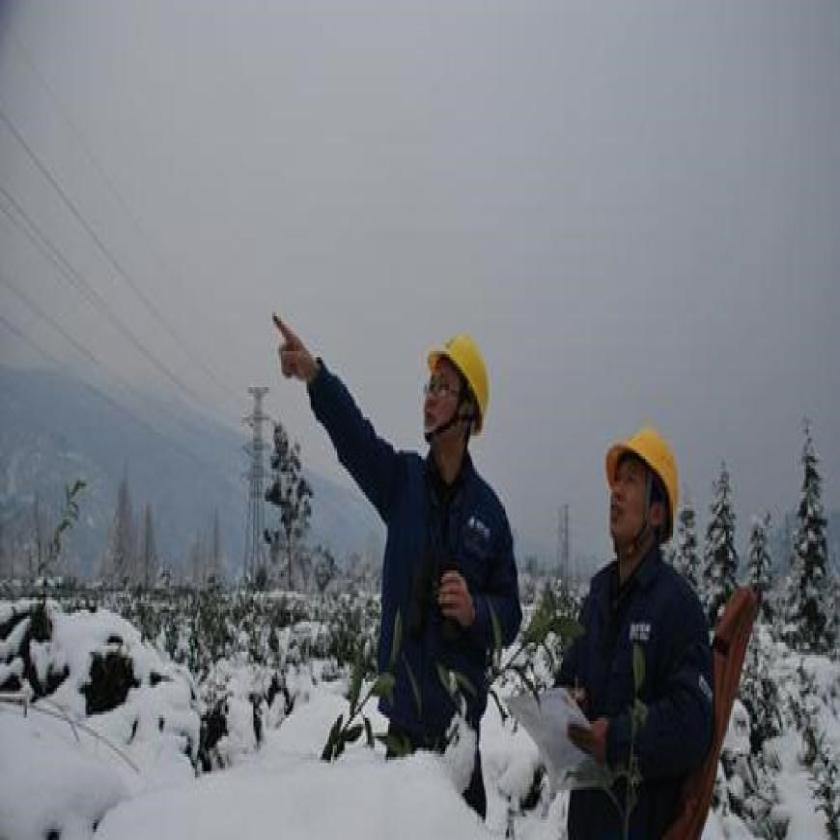Con_casco: (601, 421, 683, 574), (423, 333, 487, 457)
